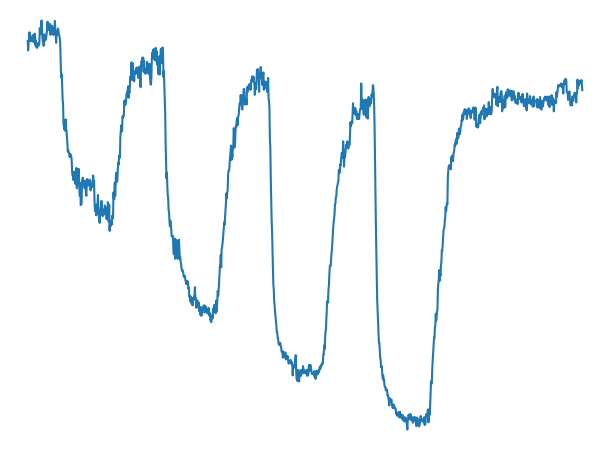decrease: (151, 40, 170, 94), (46, 13, 67, 60), (362, 74, 379, 128), (257, 60, 274, 108)
increase: (102, 186, 121, 236), (206, 285, 223, 324), (310, 348, 328, 383), (419, 401, 435, 431)
